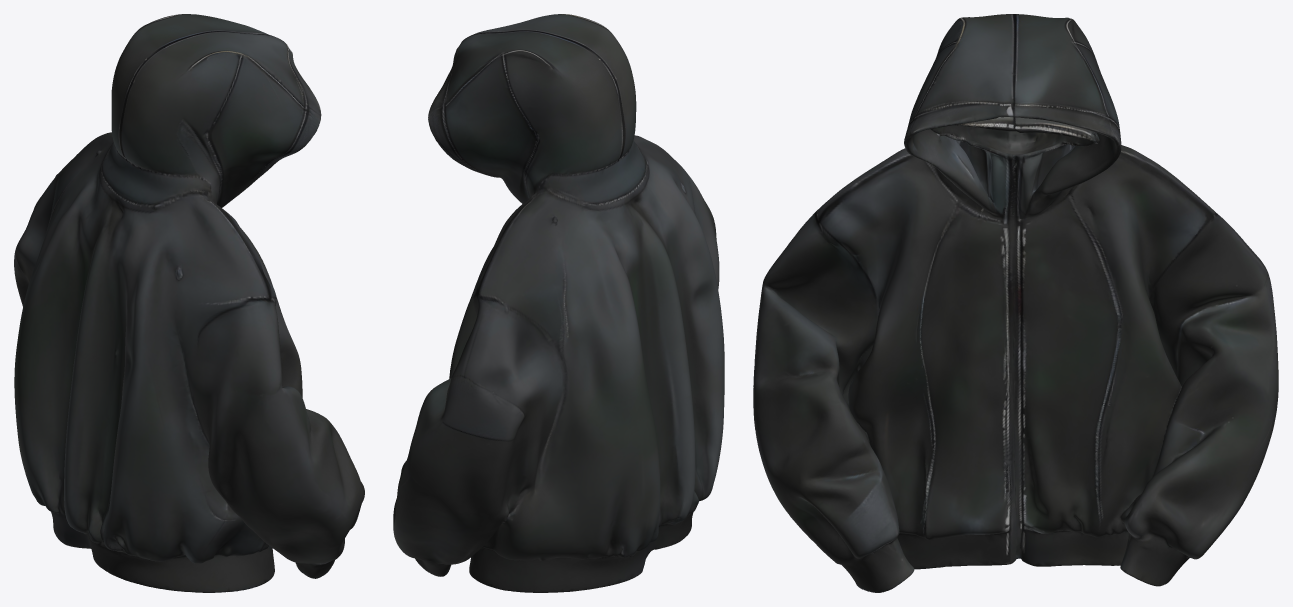
File: tripo_pbr_model_98383de0-fc93-_c8142b71_opt.glb
3 views of the same model, side by side, from view 1: azimuth 30°, elevation 25°; view 2: azimuth 150°, elevation 25°; view 3: azimuth 270°, elevation 25° (orthographic). The views are drawn at different scales.
Parts seen in each view (by area): view 1: tripo_node_98383de0-fc93-45f2-9f55-8d8237f3ce8a; view 2: tripo_node_98383de0-fc93-45f2-9f55-8d8237f3ce8a; view 3: tripo_node_98383de0-fc93-45f2-9f55-8d8237f3ce8a.
Part boxes in pixels (x1,y1,x2,y2): tripo_node_98383de0-fc93-45f2-9f55-8d8237f3ce8a: [14, 14, 364, 592]; tripo_node_98383de0-fc93-45f2-9f55-8d8237f3ce8a: [393, 14, 724, 592]; tripo_node_98383de0-fc93-45f2-9f55-8d8237f3ce8a: [753, 14, 1278, 592].
Bounding box in the file's own units: 0.49 × 1 × 0.8931.
Materials: 1 (1 with a texture image).
